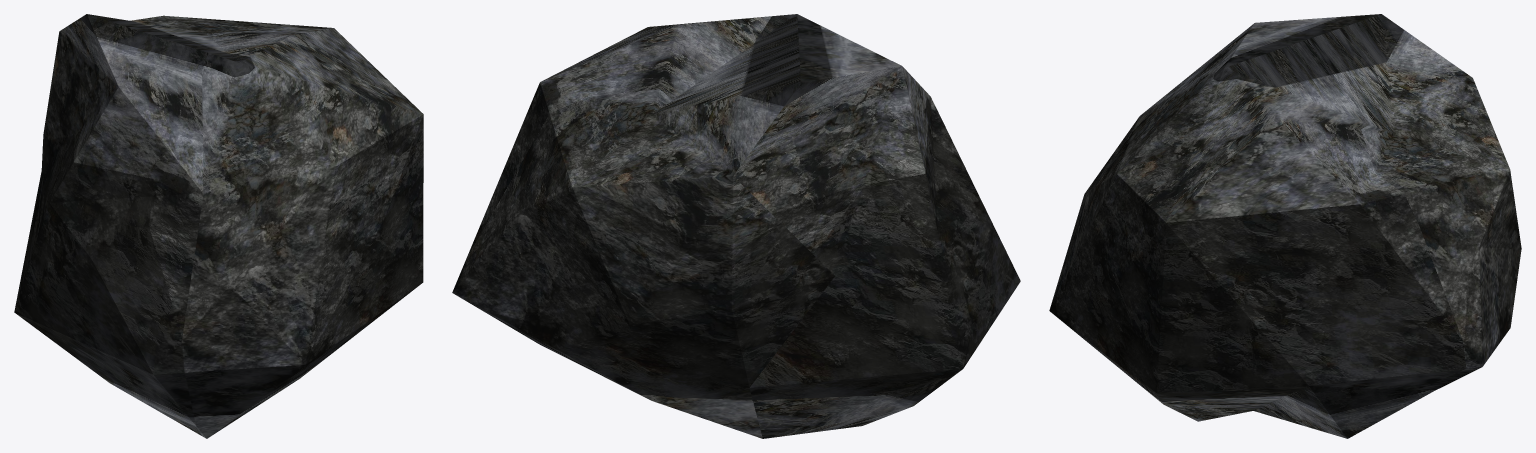
The model's file is asteroid.dae.
3 renders of one model, left to right at view 1: azimuth 30°, elevation 25°; view 2: azimuth 150°, elevation 25°; view 3: azimuth 270°, elevation 25°, orthographic. The views are drawn at different scales.
Parts seen in each view (by area): view 1: Icosphere; view 2: Icosphere; view 3: Icosphere.
Boxes of the visible parts, box(x1,y1,x2,y2) form: Icosphere: box(14, 14, 423, 438); Icosphere: box(452, 14, 1020, 438); Icosphere: box(1049, 14, 1521, 438).
Bounding box in the file's own units: 29.79 × 30.36 × 27.7.
Materials: 1 (1 with a texture image).
